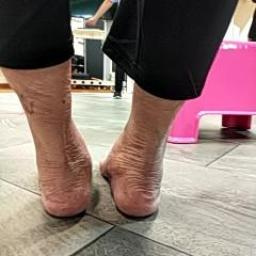Back View -Both Feet-: (15, 104, 183, 230)
